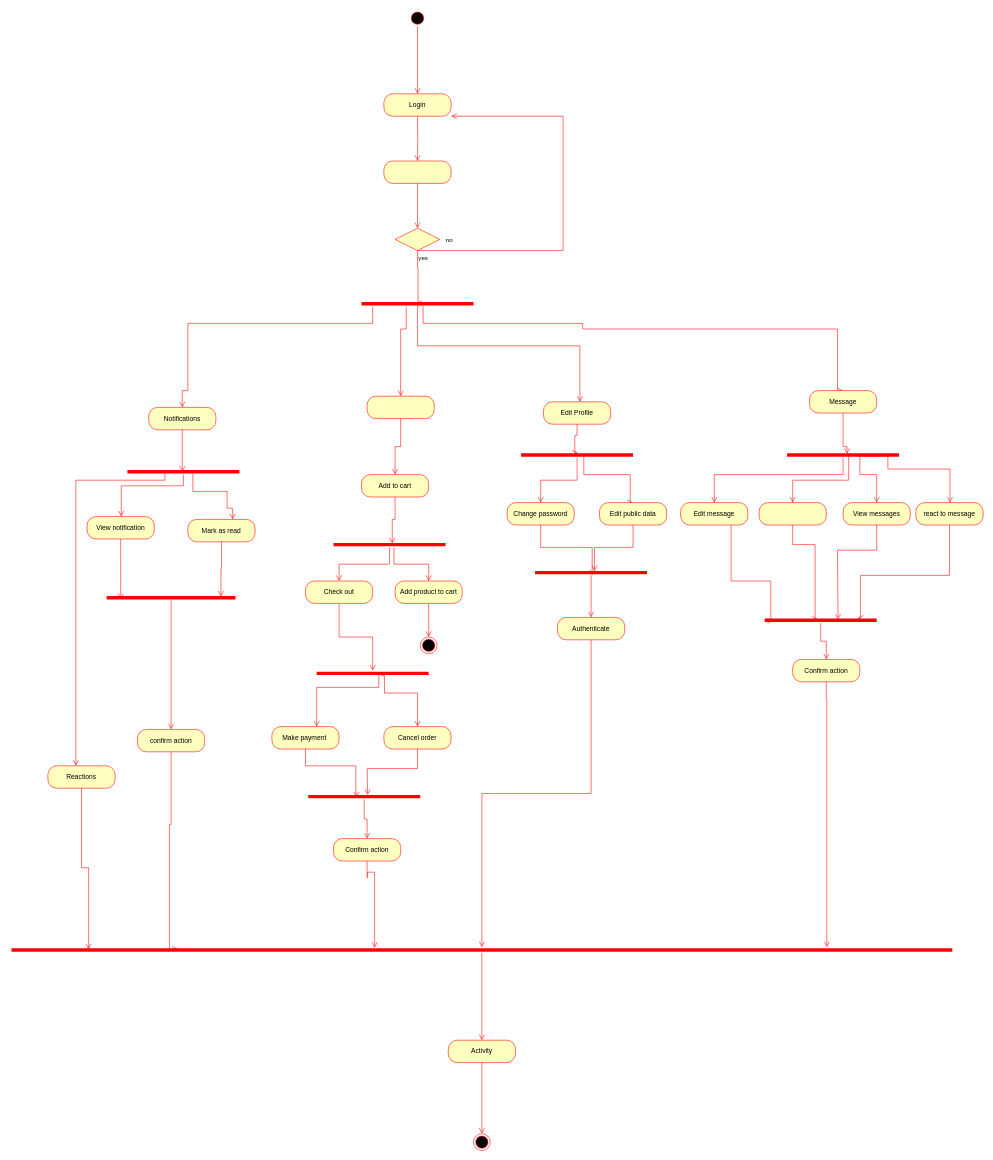
Some shapes in this 993 by 1160 pixel diagram are drawn without their labels. The box of each missing label's shape, as (x1, y1, x2, y2) in pixels:
authentication: (383, 160, 451, 183)
Browser Product: (367, 396, 434, 419)
Condition: (395, 228, 440, 251)
Send message: (759, 502, 826, 525)
